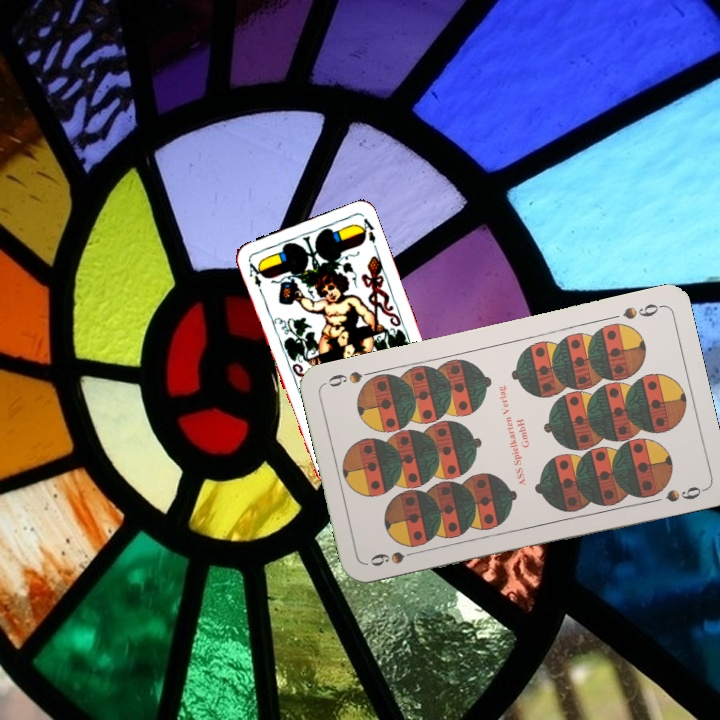EA: (244, 256, 266, 296)
S9: (366, 546, 423, 569), (619, 299, 665, 322)
